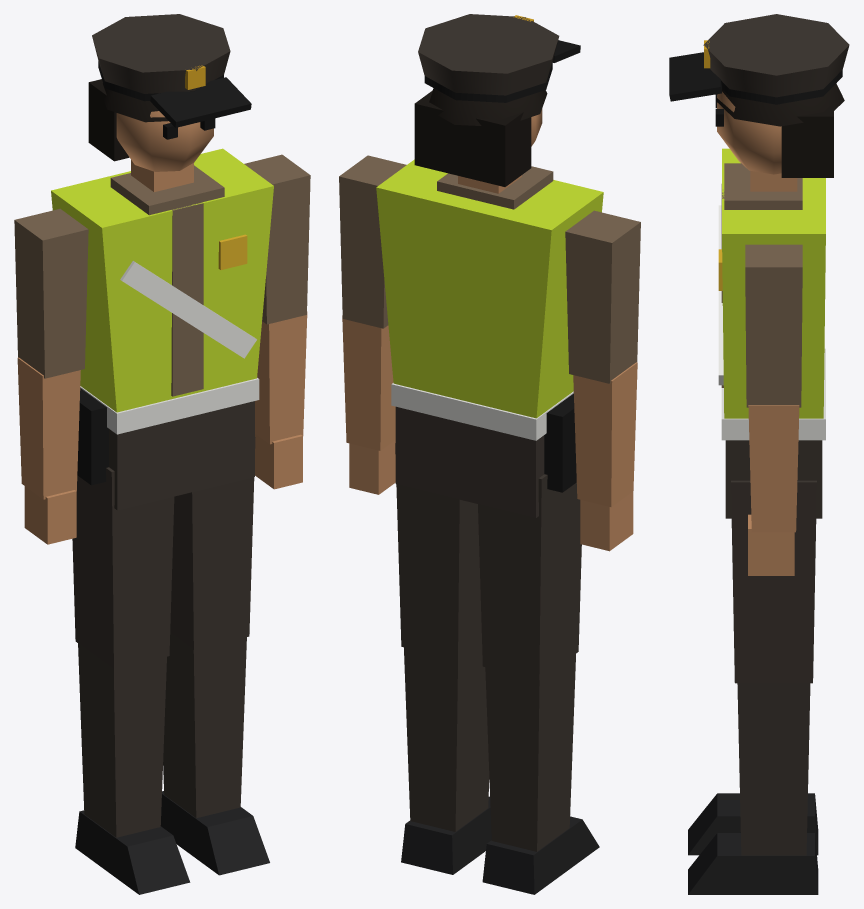
Rendered from npc_polisi.glb.
3 views of the same model, side by side, from view 1: azimuth 30°, elevation 25°; view 2: azimuth 150°, elevation 25°; view 3: azimuth 270°, elevation 25° (orthographic).
Visible parts, largest first — view 1: torso, leg_r, leg_l, arm_r, head, arm_l; view 2: torso, leg_r, leg_l, arm_r, head, arm_l; view 3: leg_l, head, torso, arm_l, leg_r.
Part boxes in pixels (x1,y1,x2,y2): torso: (51, 148, 273, 510); leg_r: (72, 467, 190, 894); leg_l: (160, 437, 269, 875); arm_r: (14, 208, 88, 544); head: (88, 14, 251, 171); arm_l: (244, 154, 310, 489); torso: (376, 159, 603, 518); leg_r: (478, 474, 599, 894); leg_l: (395, 443, 491, 874); arm_r: (565, 210, 640, 551); head: (414, 14, 580, 186); arm_l: (339, 155, 406, 494); leg_l: (688, 480, 818, 894); head: (669, 14, 849, 177); torso: (718, 148, 825, 518); arm_l: (745, 244, 802, 575); leg_r: (688, 793, 818, 855).
Size of the model in its own units: 0.6035 by 1.73 by 0.3455.
1 material, 1 textured.
